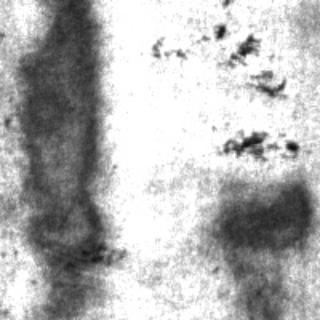patches: (16, 1, 106, 316), (210, 172, 312, 252), (231, 246, 291, 318)
